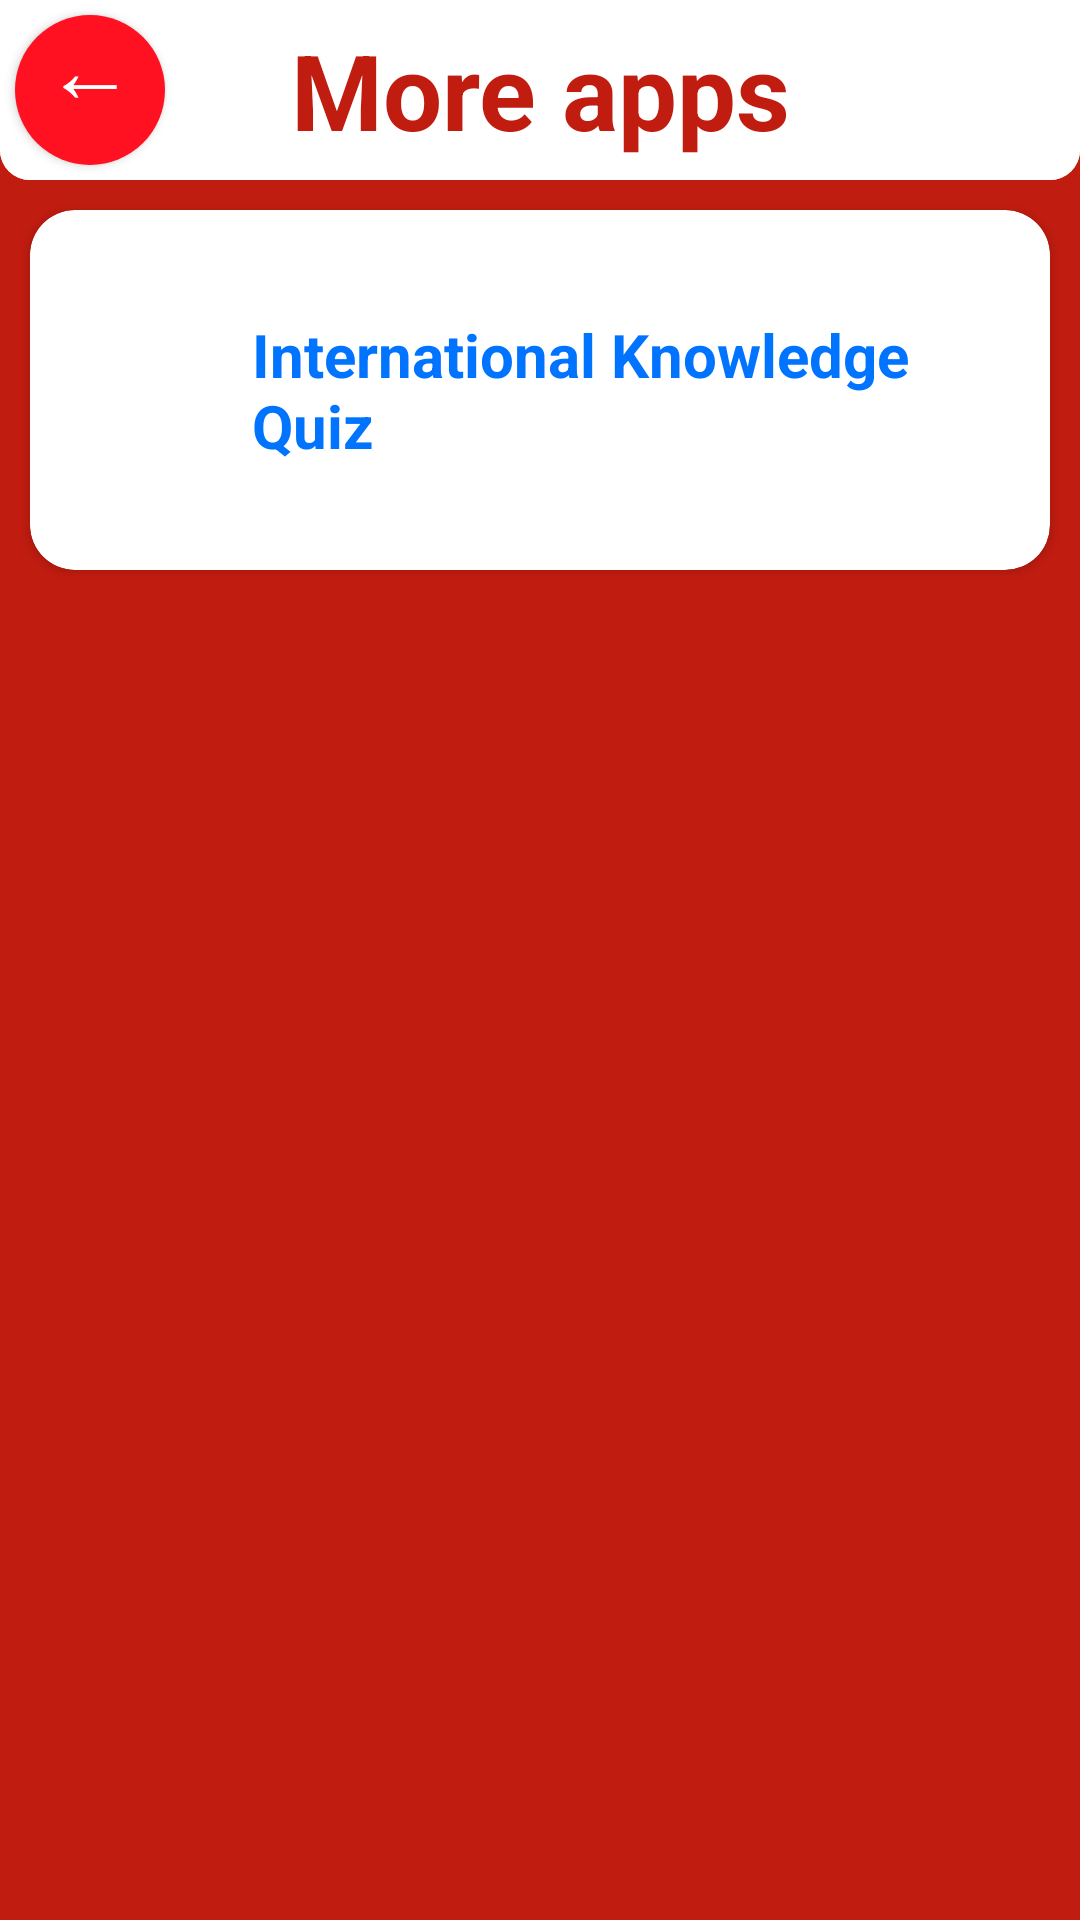

Named icons in this screenshot (1080px×1920px) and their bounding boxes, (x1, y1, x2, y2):
backbuttonblue: (15, 15, 165, 165)
